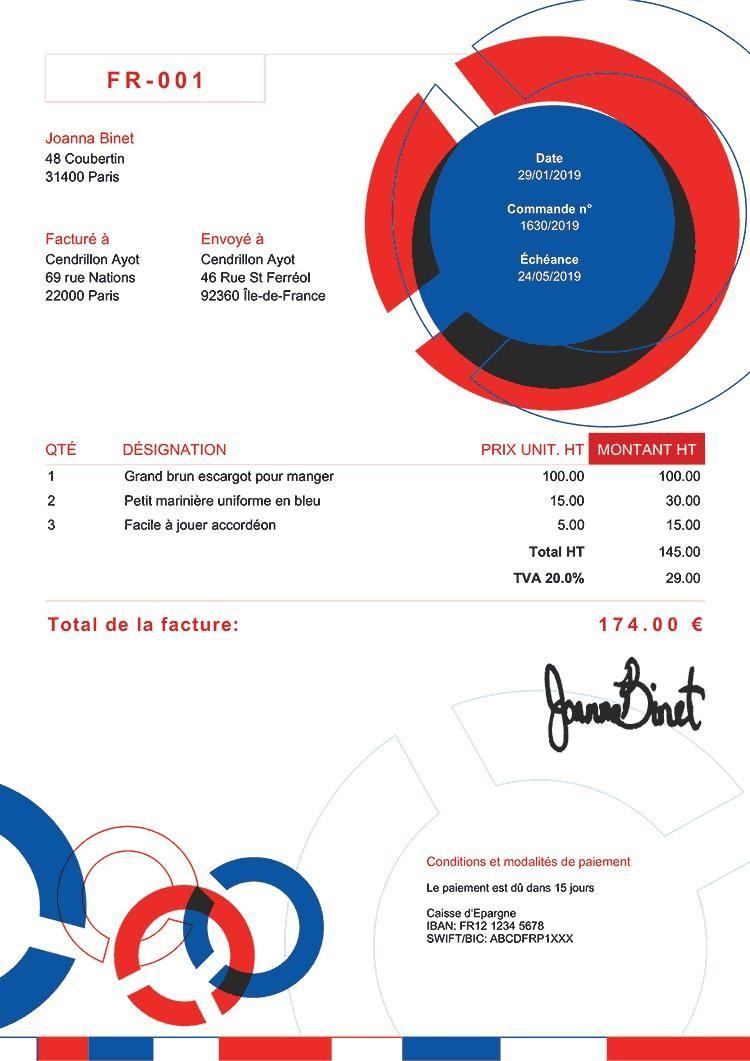ROI: (39, 433, 709, 592), (39, 603, 715, 644), (418, 845, 636, 952), (504, 143, 600, 288), (38, 225, 152, 307), (42, 117, 151, 195)
